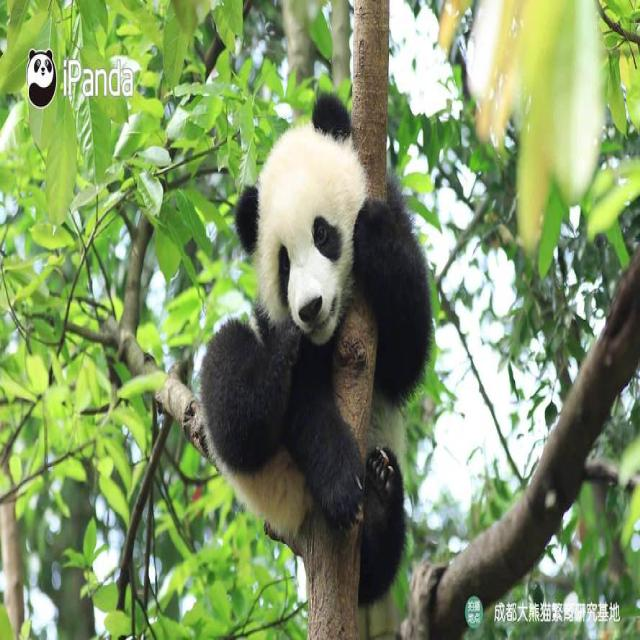panda: (197, 89, 434, 611)
